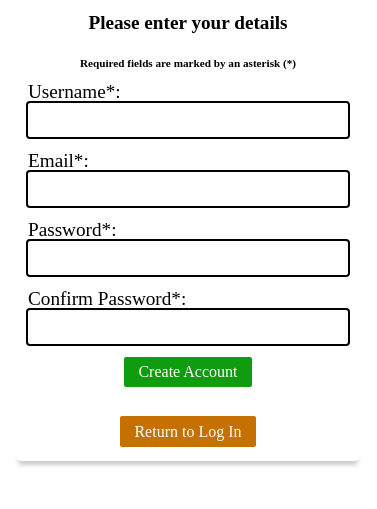
UI/DOM Testing... › The create account error... › Should be present in the document if a create account attempt has          failed
Click the button with aria-label "create-account-button".
click(188, 372)  # box [124,356,252,387]
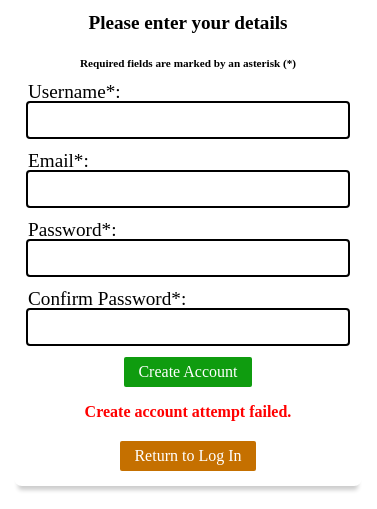
Now the heading named "create-account-error" is shown, box [85,403,291,420]
